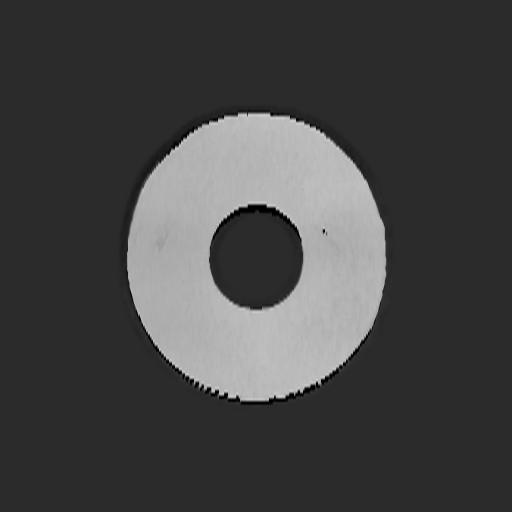defect: (321, 225, 341, 255)
